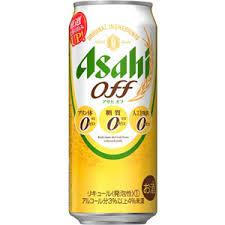beer: (64, 1, 161, 224)
